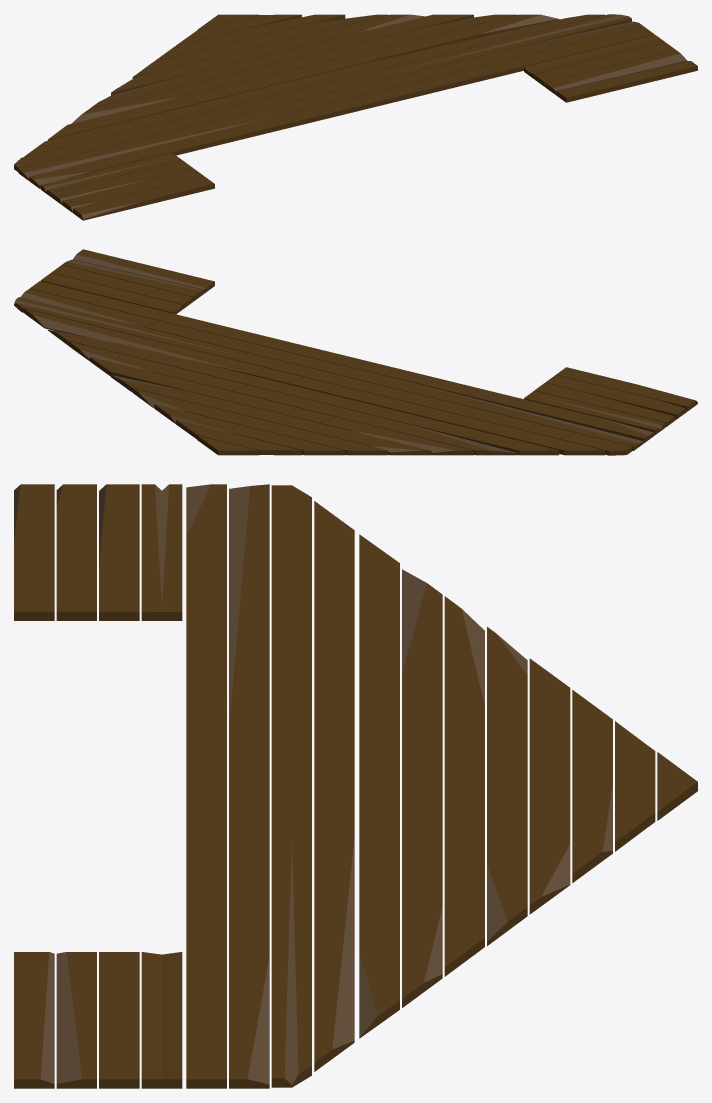
Rendered from DockPlatform.fbx.
3 views of the same model, one above another, from view 1: azimuth 30°, elevation 25°; view 2: azimuth 150°, elevation 25°; view 3: azimuth 270°, elevation 25° (orthographic). The views are drawn at different scales.
Parts seen in each view (by area): view 1: DockPlatform; view 2: DockPlatform; view 3: DockPlatform.
Part boxes in pixels (<box>): DockPlatform: <box>14,14,697,220</box>; DockPlatform: <box>14,249,697,455</box>; DockPlatform: <box>14,484,697,1088</box>.
Bounding box in the file's own units: 694 × 5.11 × 337.
